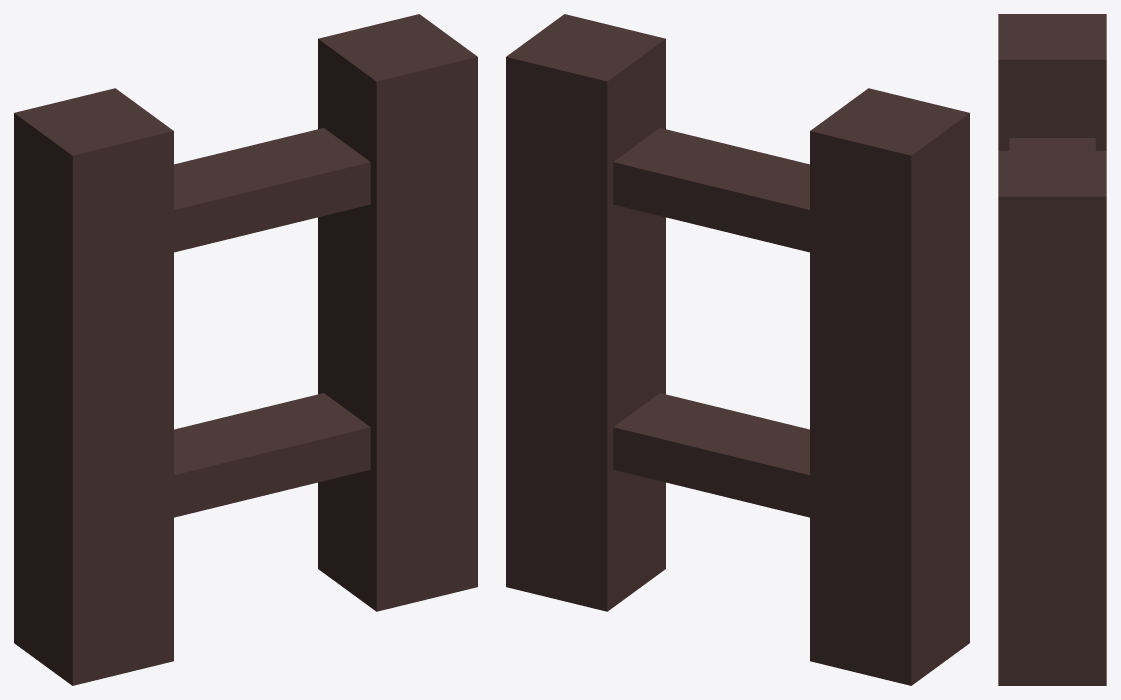
File: ladder.fbx
3 renders of one model, left to right at view 1: azimuth 30°, elevation 25°; view 2: azimuth 150°, elevation 25°; view 3: azimuth 270°, elevation 25°, orthographic. The views are drawn at different scales.
Visible parts, largest first — view 1: ladder; view 2: ladder; view 3: ladder.
Part boxes in pixels (bbox=[...]): ladder: bbox=[14, 14, 477, 685]; ladder: bbox=[506, 14, 969, 685]; ladder: bbox=[998, 14, 1106, 685].
Size of the model in its own units: 80 by 100 by 20.
